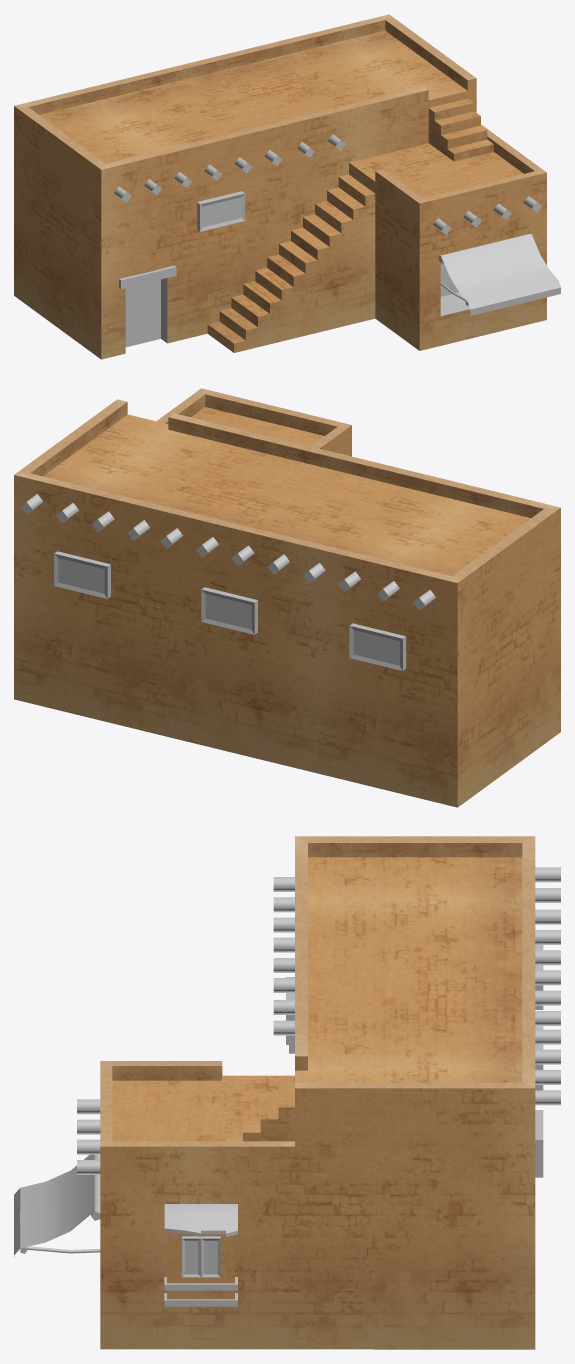
File: House_07.fbx
The picture shows the model from 3 angles, top to bottom: view 1: azimuth 30°, elevation 25°; view 2: azimuth 150°, elevation 25°; view 3: azimuth 270°, elevation 25°; orthographic projection. The views are drawn at different scales.
Parts seen in each view (by area): view 1: House_07; view 2: House_07; view 3: House_07.
Boxes of the visible parts, left/top/right/bottom form: House_07: left=14, top=14, right=560, bottom=359; House_07: left=14, top=388, right=560, bottom=807; House_07: left=14, top=836, right=560, bottom=1349.
Size of the model in its own units: 217 by 99.65 by 189.
